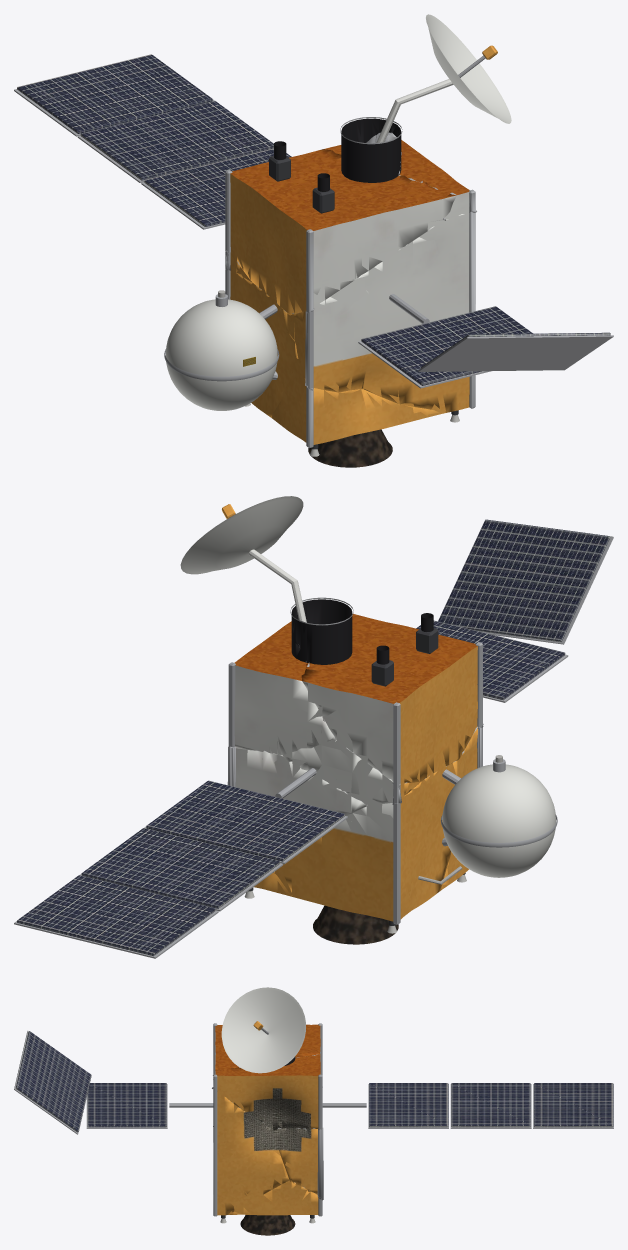
File: derelict.glb
3 views of the same model, one above another, from view 1: azimuth 30°, elevation 25°; view 2: azimuth 150°, elevation 25°; view 3: azimuth 270°, elevation 25° (orthographic). The views are drawn at different scales.
Visible parts, largest first — view 1: derelict.body, panel.1, derelict.piece.7, panel.2, tank, derelict.piece.3, derelict.antenna, derelict.piece.1, derelict.piece.2, derelict.piece.6; view 2: derelict.body, panel.1, panel.2, derelict.piece.7, tank, derelict.piece.2, derelict.antenna, derelict.piece.6, derelict.piece.4, derelict.piece.5; view 3: derelict.body, panel.1, panel.2, derelict.antenna, derelict.piece.6, derelict.piece.3, derelict.piece.4, derelict.piece.1, derelict.piece.7.
Part boxes in pixels (bbox=[...]): derelict.body: bbox=[225, 117, 475, 467]; panel.1: bbox=[14, 54, 291, 229]; derelict.piece.7: bbox=[225, 117, 456, 315]; panel.2: bbox=[358, 294, 613, 388]; tank: bbox=[164, 290, 279, 410]; derelict.piece.3: bbox=[292, 211, 475, 412]; derelict.antenna: bbox=[376, 14, 511, 142]; derelict.piece.1: bbox=[271, 379, 459, 456]; derelict.piece.2: bbox=[236, 273, 298, 416]; derelict.piece.6: bbox=[335, 133, 476, 219]; derelict.body: bbox=[228, 598, 482, 944]; panel.1: bbox=[14, 768, 347, 958]; panel.2: bbox=[416, 519, 613, 702]; derelict.piece.7: bbox=[290, 597, 483, 786]; tank: bbox=[440, 755, 557, 877]; derelict.piece.2: bbox=[274, 760, 462, 932]; derelict.antenna: bbox=[180, 496, 306, 622]; derelict.piece.6: bbox=[228, 623, 335, 754]; derelict.piece.4: bbox=[227, 746, 367, 815]; derelict.piece.5: bbox=[283, 740, 418, 804]; derelict.body: bbox=[213, 1024, 322, 1235]; panel.1: bbox=[322, 1083, 613, 1128]; panel.2: bbox=[14, 1031, 213, 1134]; derelict.antenna: bbox=[221, 987, 305, 1073]; derelict.piece.6: bbox=[212, 1055, 321, 1130]; derelict.piece.3: bbox=[213, 1097, 289, 1215]; derelict.piece.4: bbox=[277, 1128, 323, 1200]; derelict.piece.1: bbox=[220, 1182, 321, 1223]; derelict.piece.7: bbox=[213, 1023, 322, 1075].
Bounding box in the file's own units: 3.16 × 3.57 × 7.42.
1 material, 1 textured.
